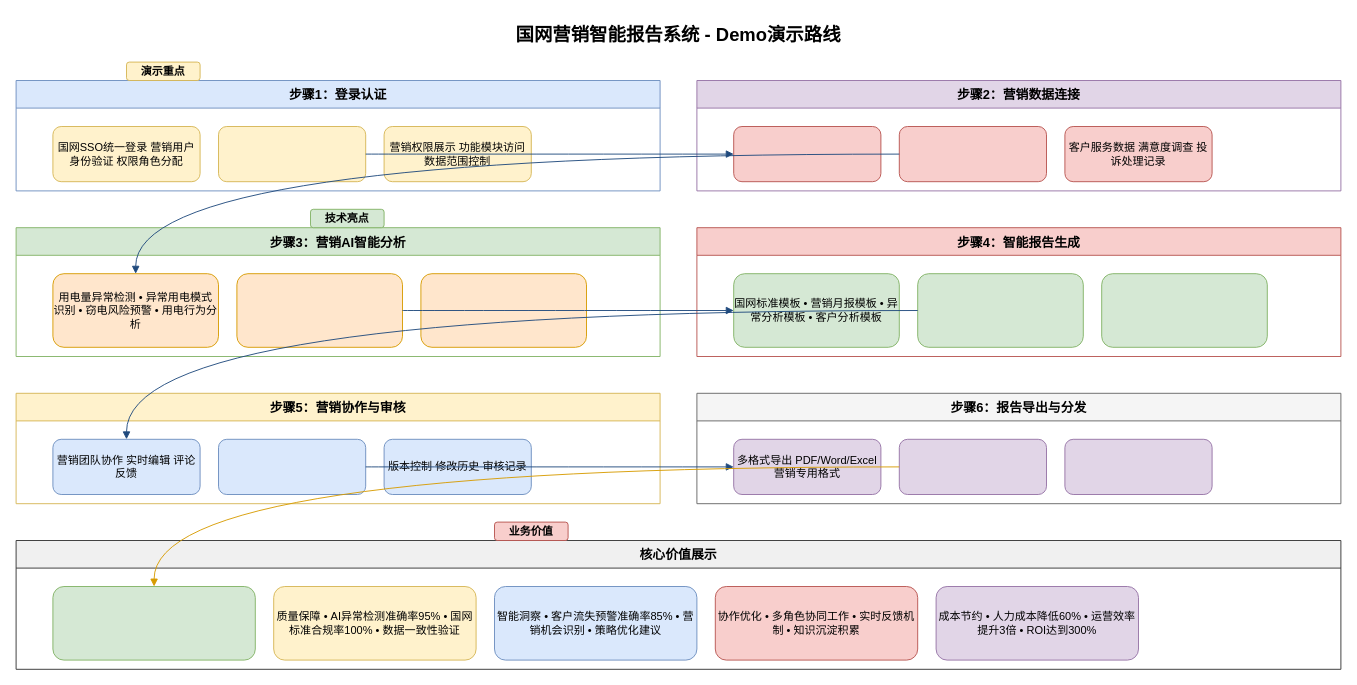
The diagram is 1357 pixels wide and 685 high, and some of its shapes have lost their labels. Here are the shapes that lost their labels. From the top down, the centre of each, then its label:
pixel 292 154: 营销工作台界面 个人仪表板 待办事项
pixel 807 154: 营销2.0系统连接 用电量数据获取 售电收入数据
pixel 972 154: 智能电表数据 实时用电监控 异常用电识别
pixel 319 310: 客户流失预警 • 流失风险评分 • 客户价值分析 • 挽留策略建议
pixel 503 310: 营销洞察生成 • 市场趋势分析 • 竞争对手分析 • 营销机会识别
pixel 1000 310: 智能图表生成 • 用电量趋势图 • 客户分布图 • 收入分析图
pixel 1184 310: 营销建议生成 • 策略优化建议 • 风险应对措施 • 行动计划
pixel 292 466: 营销审核流程 多级审批 合规检查
pixel 972 466: 自动分发 邮件推送 系统通知
pixel 1138 466: 归档管理 历史报告 知识积累
pixel 153 623: 效率提升 • 报告生成时间从2天缩短到2小时 • 数据处理自动化率90% • 人工审核时间减少70%
